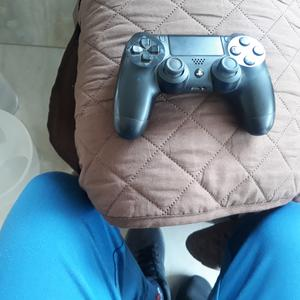controller: (114, 32, 274, 139)
